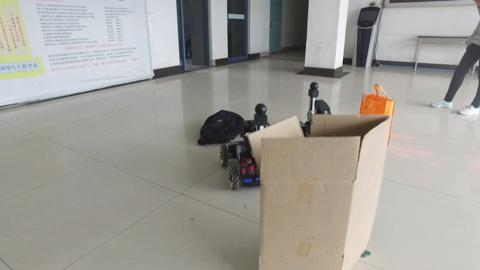bag: (363, 83, 400, 126)
